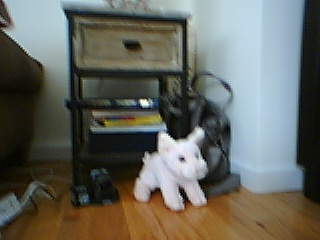piggy: (132, 124, 210, 213)
